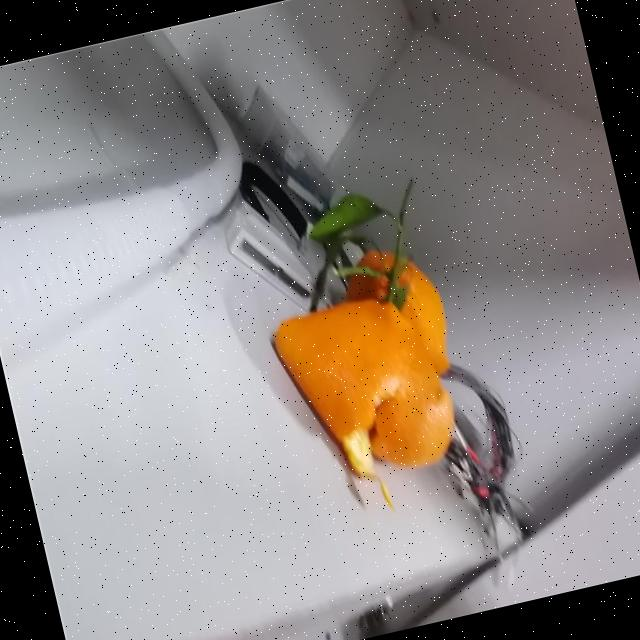orange-peel: (254, 234, 484, 520)
